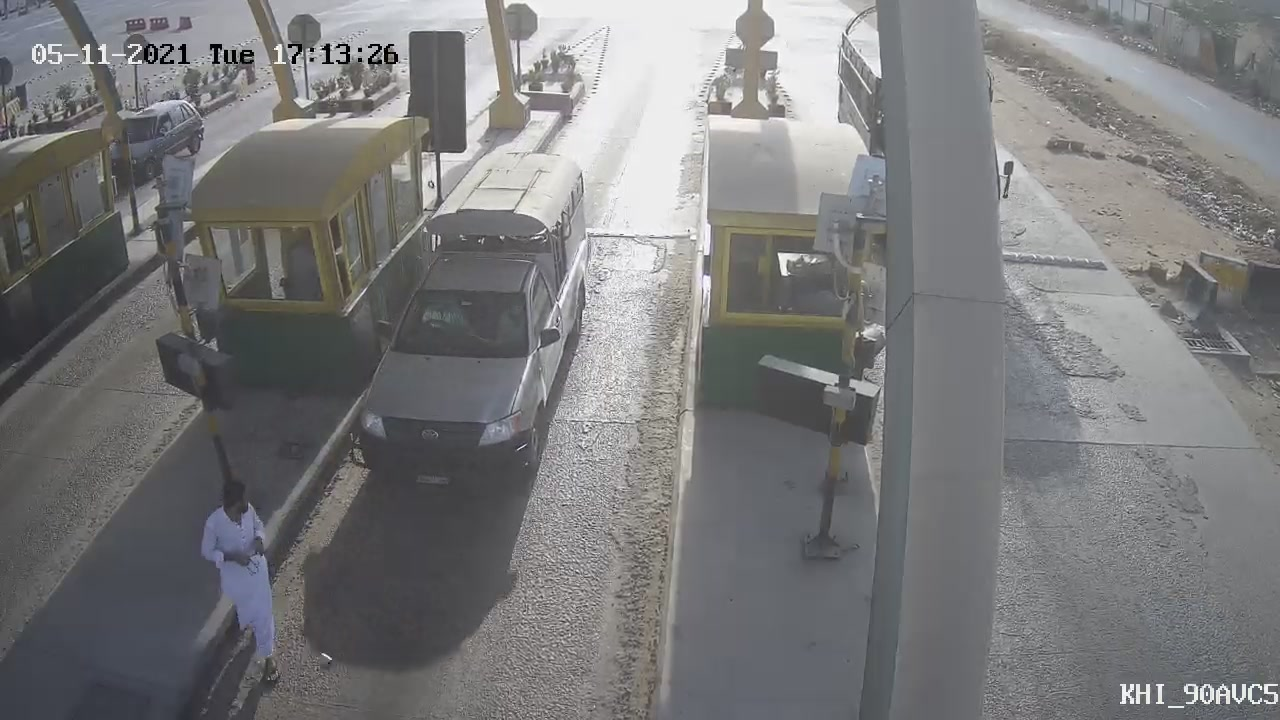F1: (327, 129, 611, 521)
